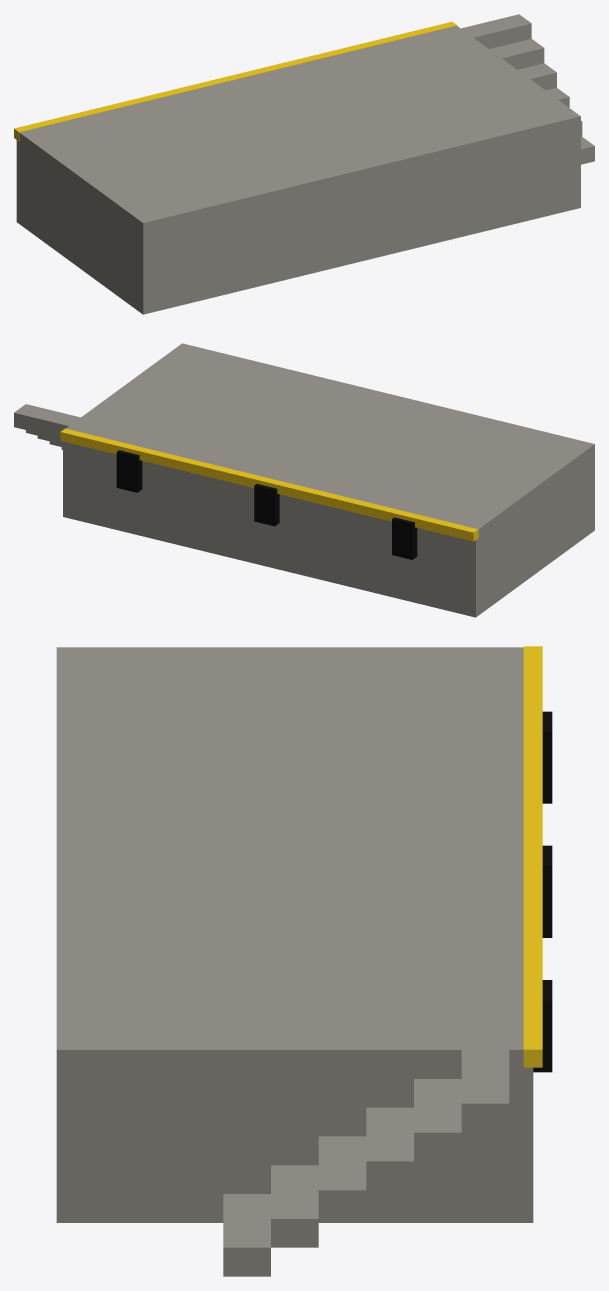
File: industrial.depot.dock_platform.glb
3 renders of one model, top to bottom at view 1: azimuth 30°, elevation 25°; view 2: azimuth 150°, elevation 25°; view 3: azimuth 270°, elevation 25°, orthographic. The views are drawn at different scales.
Visible parts, largest first — view 1: main__concrete, main__plastic_yellow; view 2: main__concrete, main__plastic_yellow, main__rubber; view 3: main__concrete, main__plastic_yellow, main__rubber.
Boxes of the visible parts, x1,y1,x2,y2 form: main__concrete: [16, 14, 594, 314]; main__plastic_yellow: [14, 21, 456, 141]; main__concrete: [14, 343, 594, 617]; main__plastic_yellow: [60, 428, 478, 541]; main__rubber: [116, 450, 417, 559]; main__concrete: [56, 647, 533, 1276]; main__plastic_yellow: [523, 646, 542, 1067]; main__rubber: [533, 711, 552, 1072].
Bounding box in the file's own units: 6.8 × 1.2 × 3.12.
